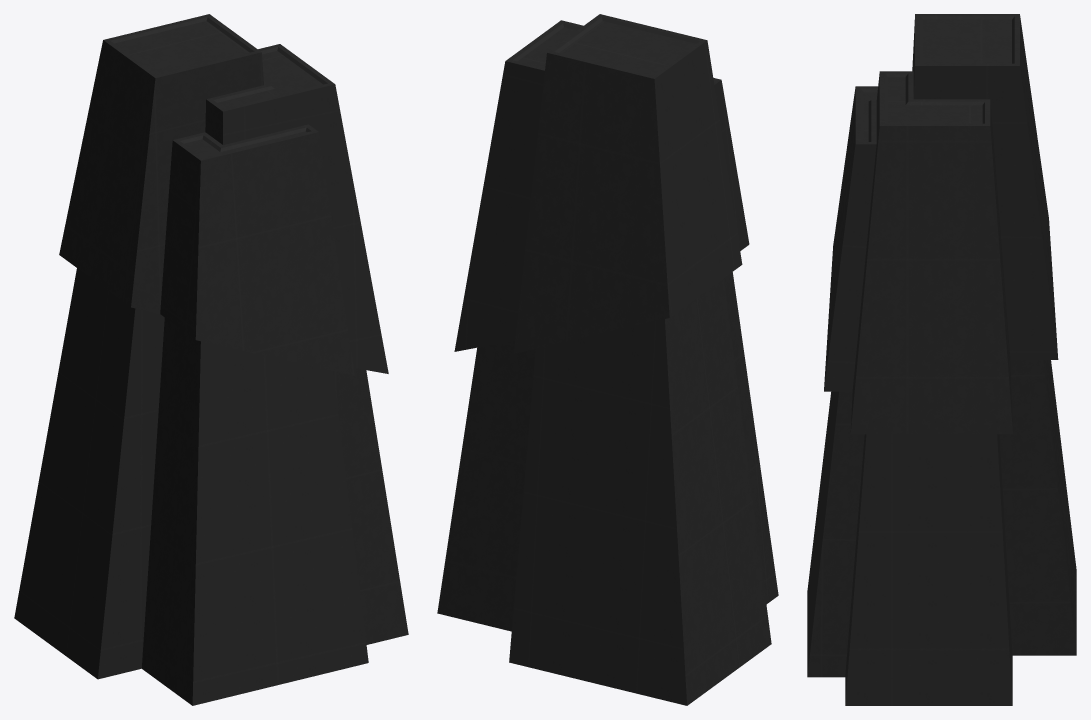
The model's file is bldg_cDo-A_000.FBX.
3 views of the same model, side by side, from view 1: azimuth 30°, elevation 25°; view 2: azimuth 150°, elevation 25°; view 3: azimuth 270°, elevation 25° (orthographic).
Parts seen in each view (by area): view 1: bldg_cDo-A_000; view 2: bldg_cDo-A_000; view 3: bldg_cDo-A_000.
Part boxes in pixels (x1,y1,x2,y2): bldg_cDo-A_000: [14, 14, 408, 705]; bldg_cDo-A_000: [437, 14, 778, 705]; bldg_cDo-A_000: [807, 14, 1076, 705].
Bounding box in the file's own units: 31.29 × 62.62 × 26.1.
Materials: 1 (1 with a texture image).
